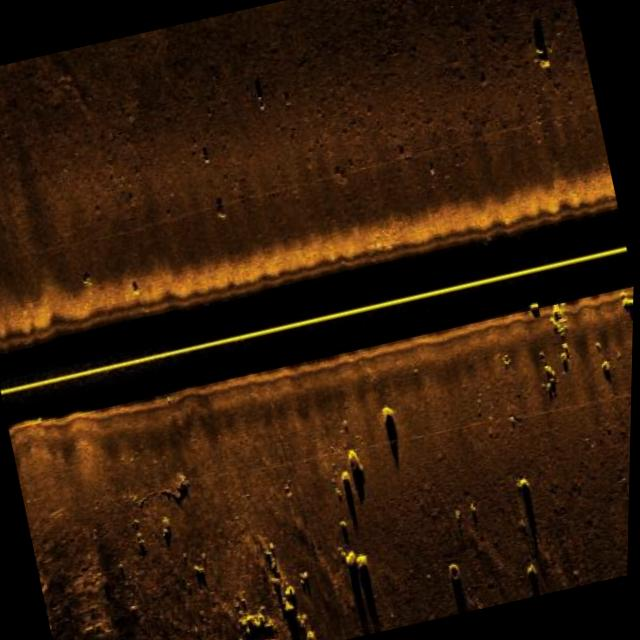mine: (518, 555, 546, 595), (609, 284, 635, 323)
other: (313, 442, 389, 581), (509, 464, 548, 551), (372, 394, 412, 478), (441, 555, 472, 606), (592, 354, 617, 393)
